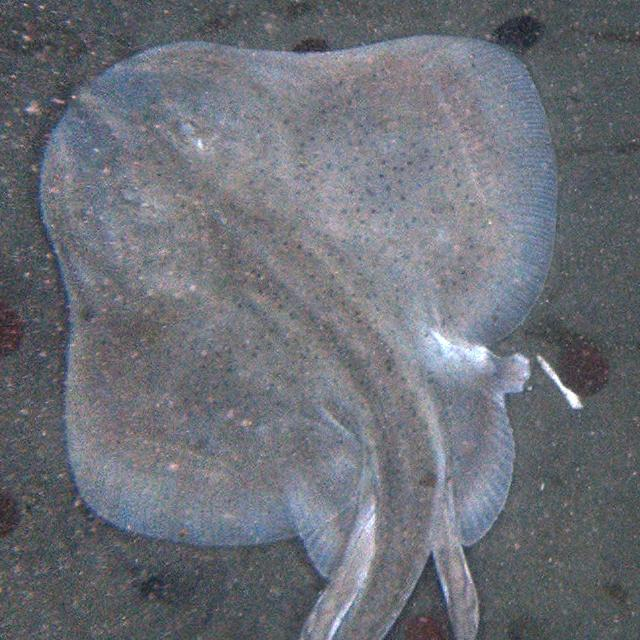skate: (36, 32, 561, 640)
